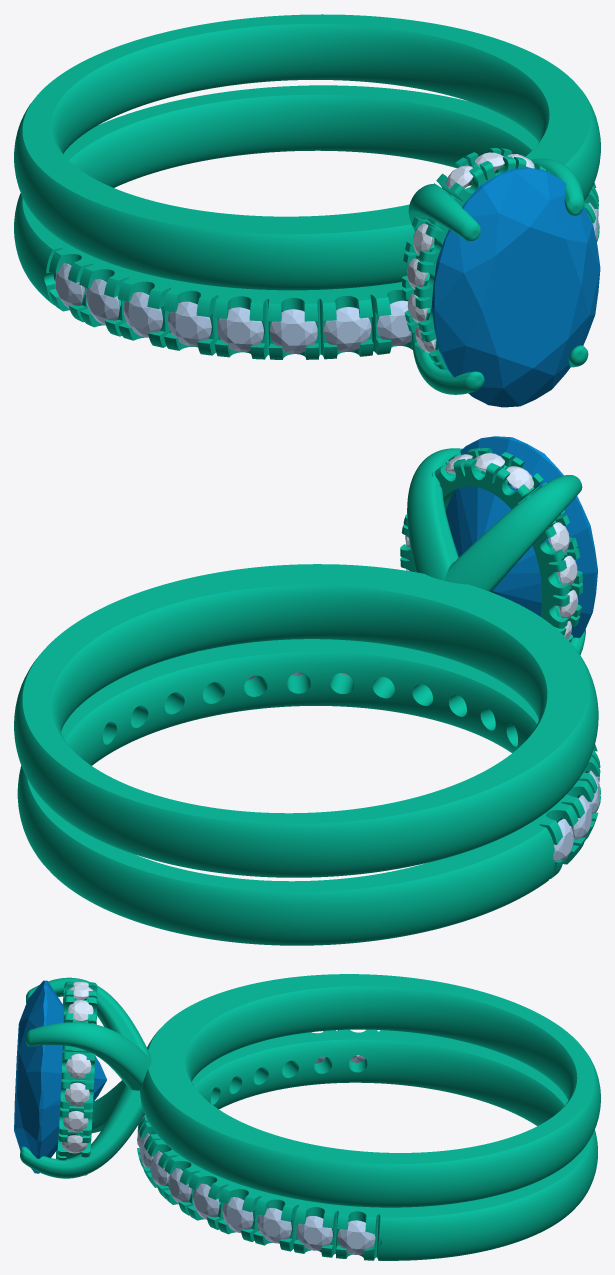
The picture shows the model from 3 angles, top to bottom: view 1: azimuth 30°, elevation 25°; view 2: azimuth 150°, elevation 25°; view 3: azimuth 270°, elevation 25°; orthographic projection. The views are drawn at different scales.
Visible parts, largest first — view 1: LR103 1(base).3dm, Diamond_Oval, Diamond_Round (×8); view 2: LR103 1(base).3dm, Diamond_Oval; view 3: LR103 1(base).3dm, Diamond_Round (×11), Diamond_Oval.
Part boxes in pixels (box(x1,y1,x2,y2)): LR103 1(base).3dm: box(14, 14, 600, 394); Diamond_Oval: box(431, 167, 600, 407); Diamond_Round (×8): box(55, 263, 411, 353); LR103 1(base).3dm: box(14, 448, 600, 945); Diamond_Oval: box(445, 436, 597, 637); LR103 1(base).3dm: box(20, 974, 600, 1260); Diamond_Round (×11): box(63, 1000, 375, 1254); Diamond_Oval: box(14, 980, 106, 1173).
Bounding box in the file's own units: 2.39 × 1.08 × 3.02.
